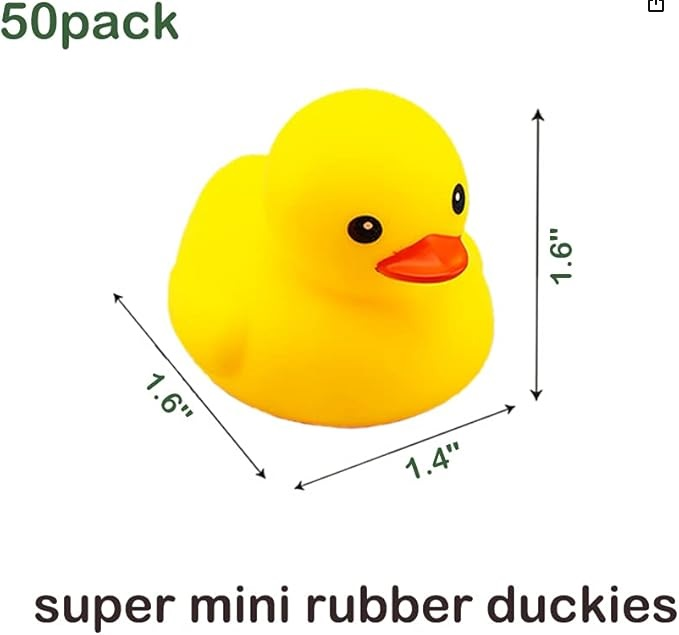duck_regular: (167, 88, 495, 430)
